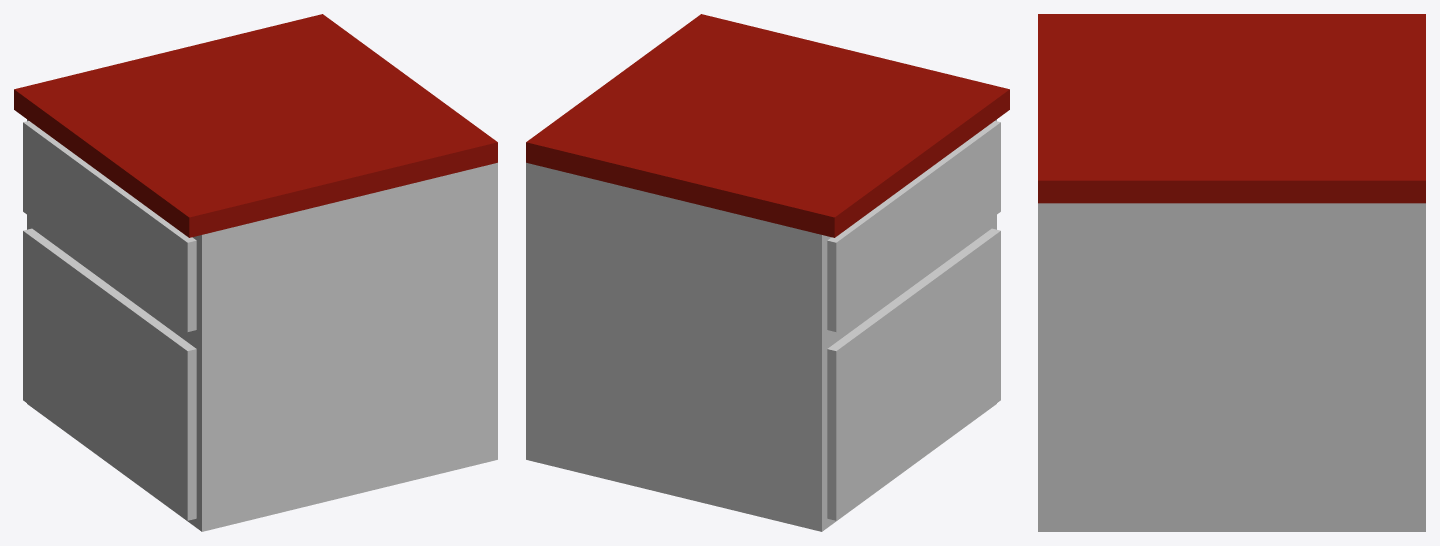
File: SM_KitchenFurniture_01.fbx
3 views of the same model, side by side, from view 1: azimuth 30°, elevation 25°; view 2: azimuth 150°, elevation 25°; view 3: azimuth 270°, elevation 25° (orthographic). The views are drawn at different scales.
Visible parts, largest first — view 1: SM_KitchenFurniture_01; view 2: SM_KitchenFurniture_01; view 3: SM_KitchenFurniture_01.
Boxes of the visible parts, box(x1,y1,x2,y2) form: SM_KitchenFurniture_01: box(14, 14, 497, 531); SM_KitchenFurniture_01: box(526, 14, 1009, 531); SM_KitchenFurniture_01: box(1038, 14, 1425, 531).
Bounding box in the file's own units: 40.04 × 39.37 × 39.37.
